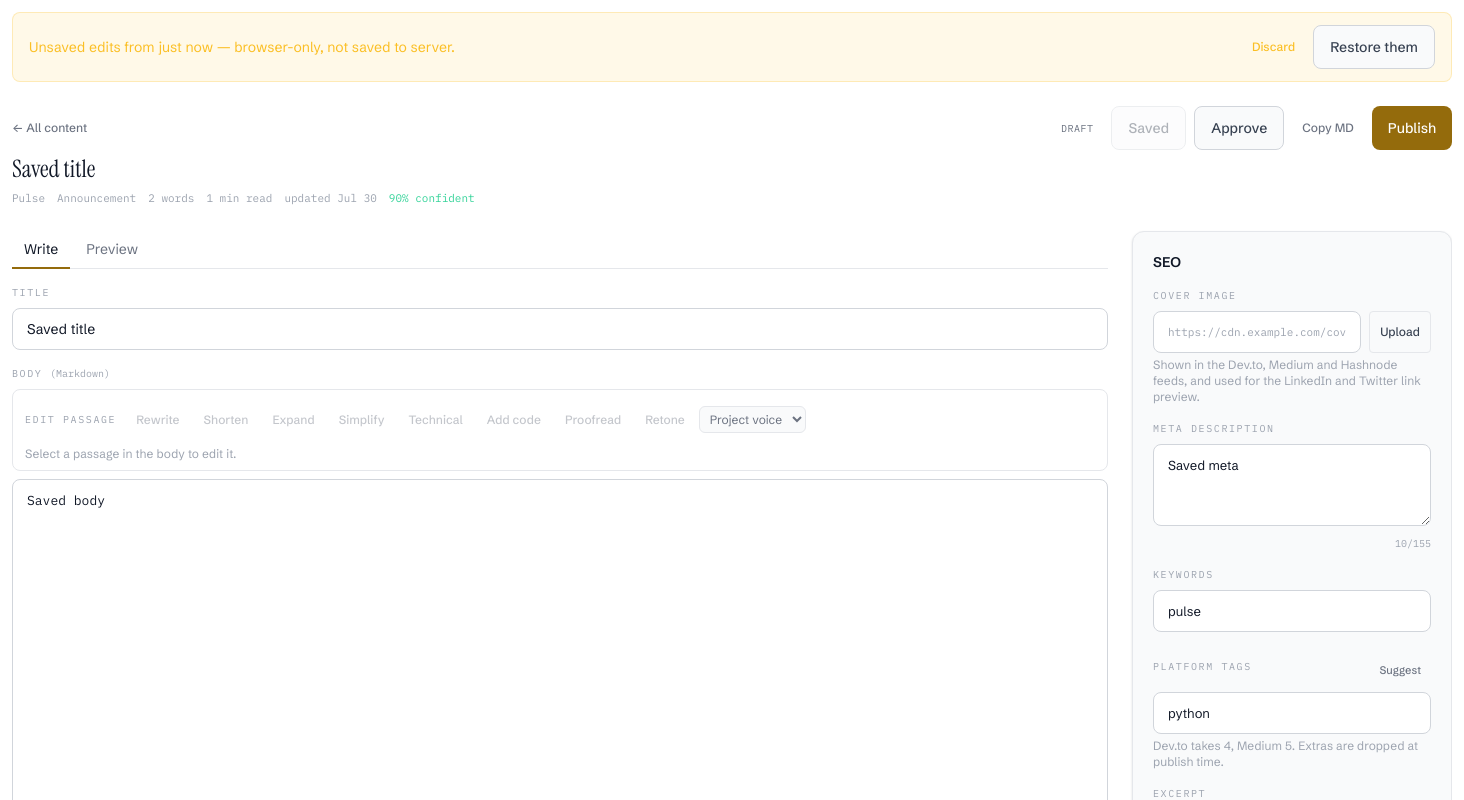
Test: recovering unsaved work › restores only when asked
Expected: the message is shown, [12,12,1452,82]
Click the button "Restore them" at (1374, 47), box [1313,25,1435,69]
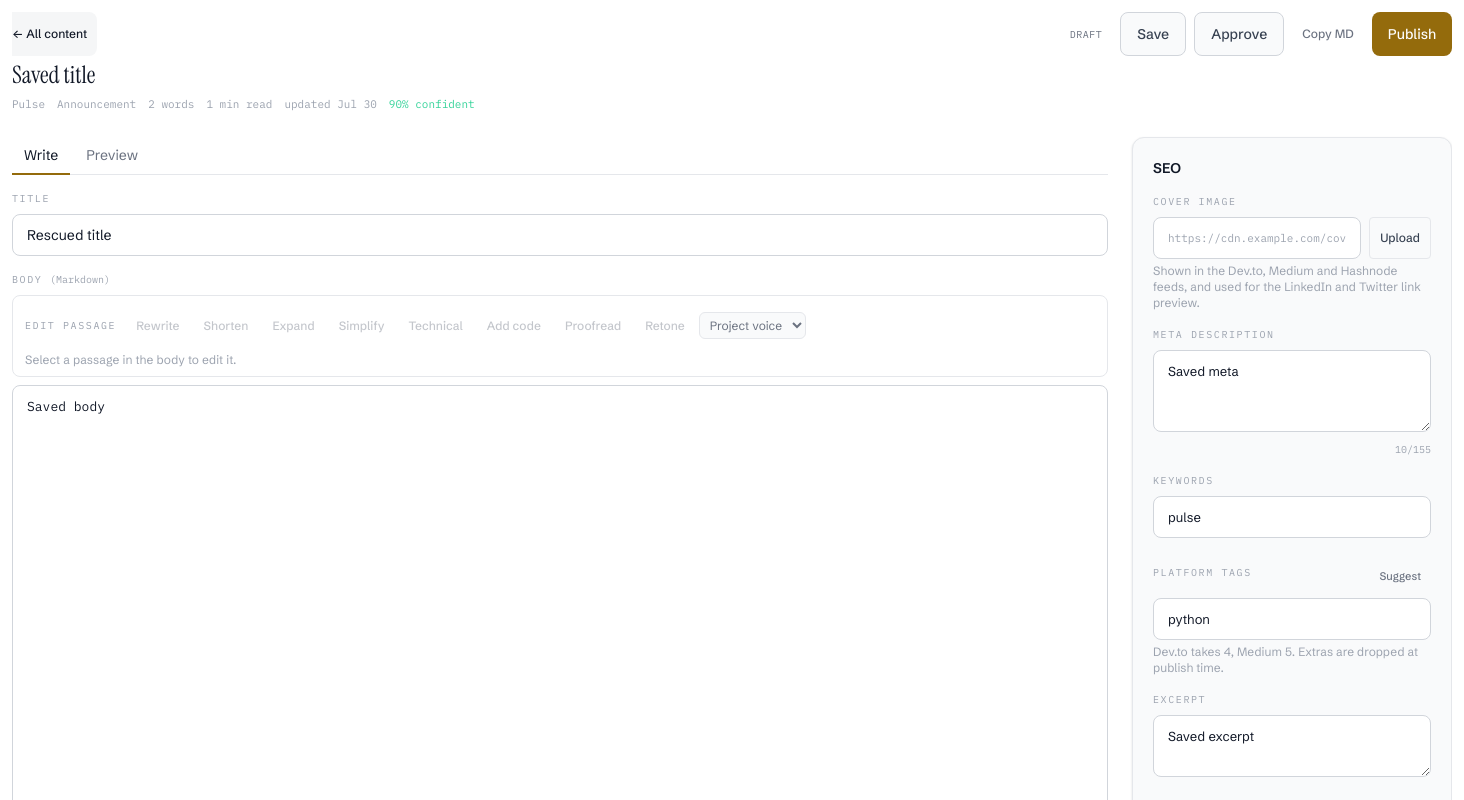
Expected: the field labelled "Title" holds "Rescued title", [12,214,1108,256]
Expected: the message is gone
